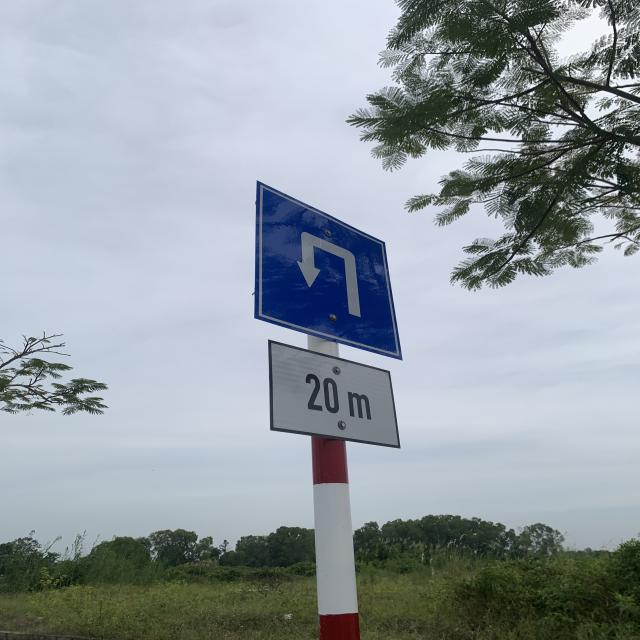Den_Giao_Thong: (257, 182, 396, 360)
